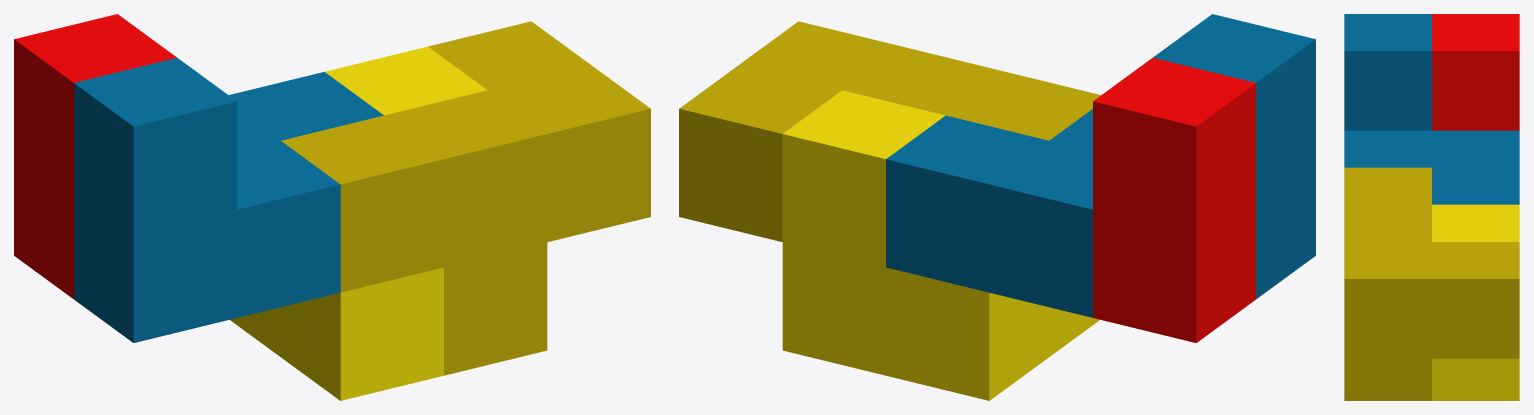
The picture shows the model from 3 angles, left to right: view 1: azimuth 30°, elevation 25°; view 2: azimuth 150°, elevation 25°; view 3: azimuth 270°, elevation 25°; orthographic projection. The views are drawn at different scales.
Visible parts, largest first — view 1: mergedBlocks(Clone); view 2: mergedBlocks(Clone); view 3: mergedBlocks(Clone).
Part boxes in pixels (x1,y1,x2,y2): mergedBlocks(Clone): [14, 14, 650, 400]; mergedBlocks(Clone): [679, 14, 1315, 400]; mergedBlocks(Clone): [1344, 14, 1519, 400].
Bounding box in the file's own units: 5 × 3 × 2.
4 materials, 4 textured.
